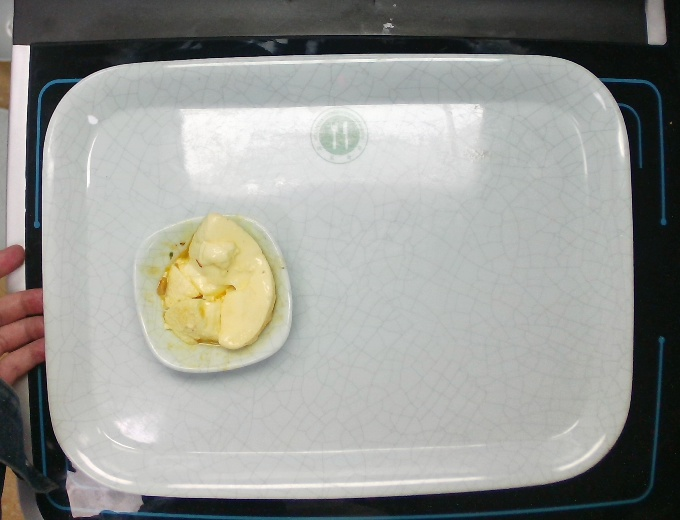JYsf-Si_Fang_Die: (124, 203, 298, 386)
